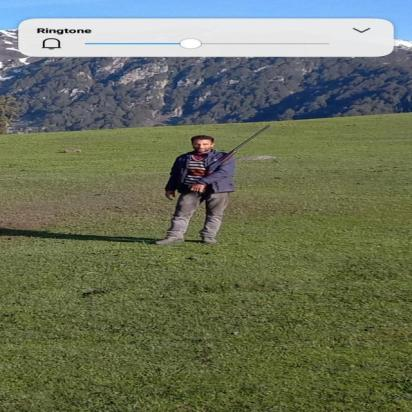Gun: (188, 123, 273, 194)
